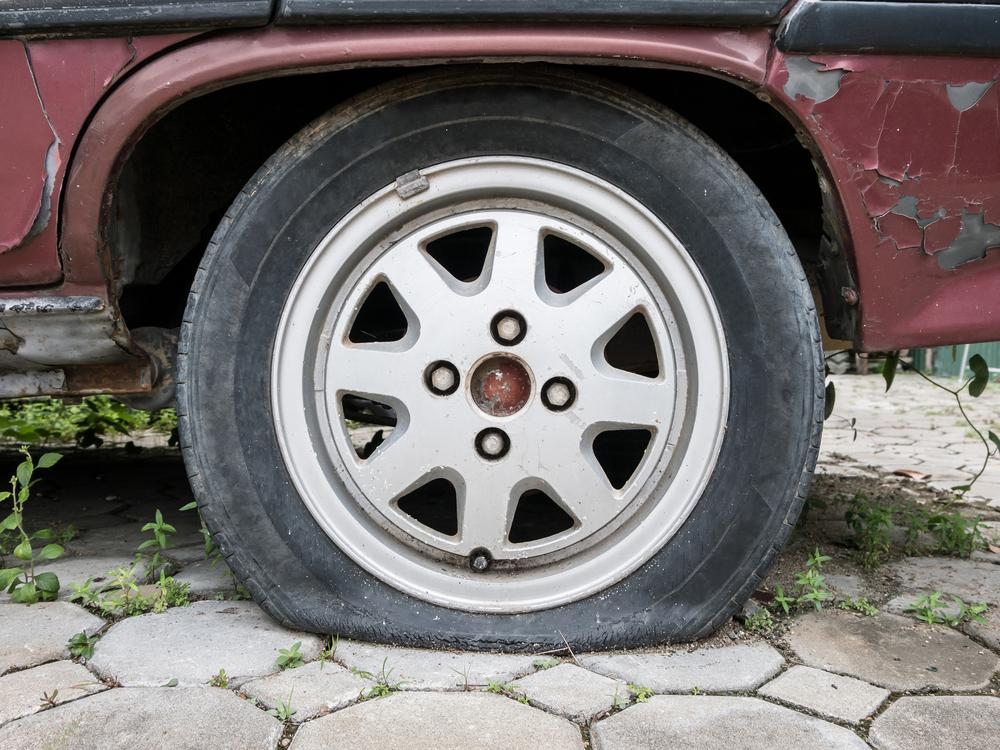tire flat: (182, 70, 829, 655)
